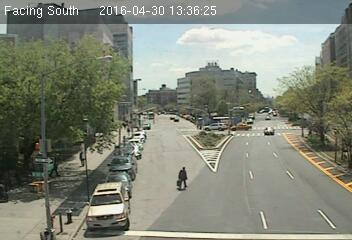neg: (107, 139, 129, 169), (56, 181, 74, 205), (72, 178, 89, 202), (3, 178, 17, 198), (47, 189, 61, 208), (98, 151, 109, 166)
pos: (174, 162, 194, 189), (47, 154, 66, 179), (74, 149, 87, 167)
